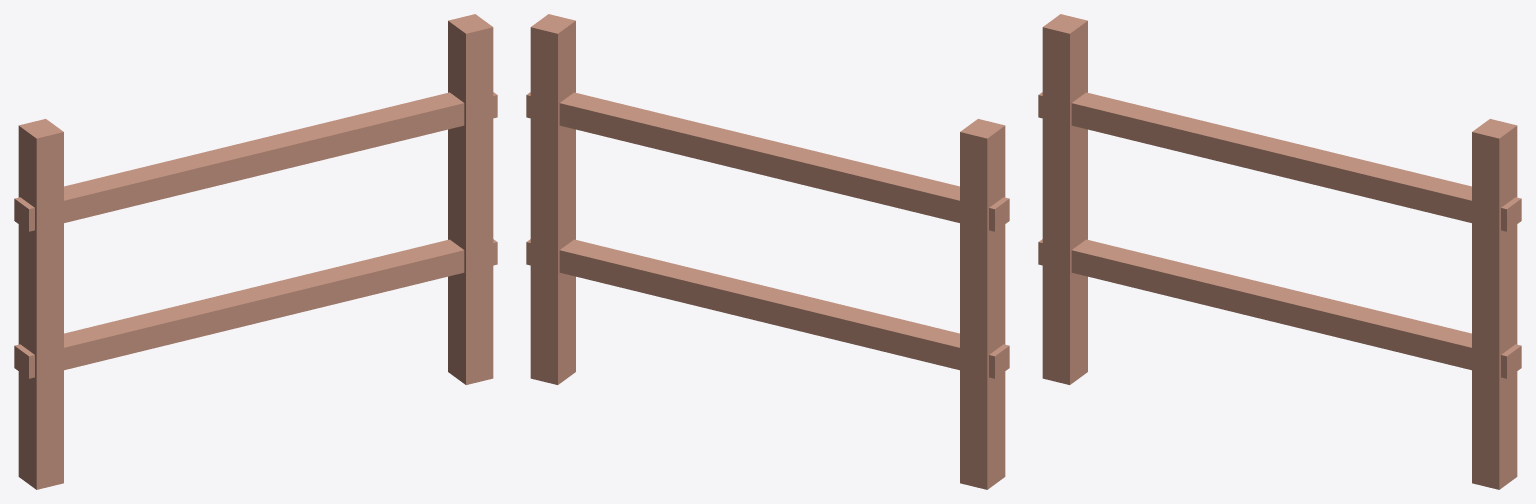
3 renders of one model, left to right at view 1: azimuth 30°, elevation 25°; view 2: azimuth 150°, elevation 25°; view 3: azimuth 330°, elevation 25°, orthographic.
Parts seen in each view (by area): view 1: Fence post, Fence post.001, Fence beam.001, Fence beam; view 2: Fence post, Fence post.001, Fence beam.001, Fence beam; view 3: Fence post.001, Fence post, Fence beam.001, Fence beam.
Boxes of the visible parts, x1=… form: Fence post: x1=18, y1=119, x2=63, y2=489; Fence post.001: x1=448, y1=14, x2=493, y2=384; Fence beam.001: x1=14, y1=92, x2=497, y2=231; Fence beam: x1=14, y1=239, x2=497, y2=378; Fence post: x1=960, y1=119, x2=1005, y2=489; Fence post.001: x1=530, y1=14, x2=575, y2=384; Fence beam.001: x1=526, y1=92, x2=1009, y2=231; Fence beam: x1=526, y1=239, x2=1009, y2=378; Fence post.001: x1=1472, y1=119, x2=1517, y2=489; Fence post: x1=1042, y1=14, x2=1087, y2=384; Fence beam.001: x1=1038, y1=92, x2=1521, y2=231; Fence beam: x1=1038, y1=239, x2=1521, y2=378.
Size of the model in its own units: 1.2 by 0.86 by 0.08.
Materials: 1 (1 with a texture image).
